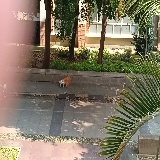fire: (62, 77, 70, 85)
